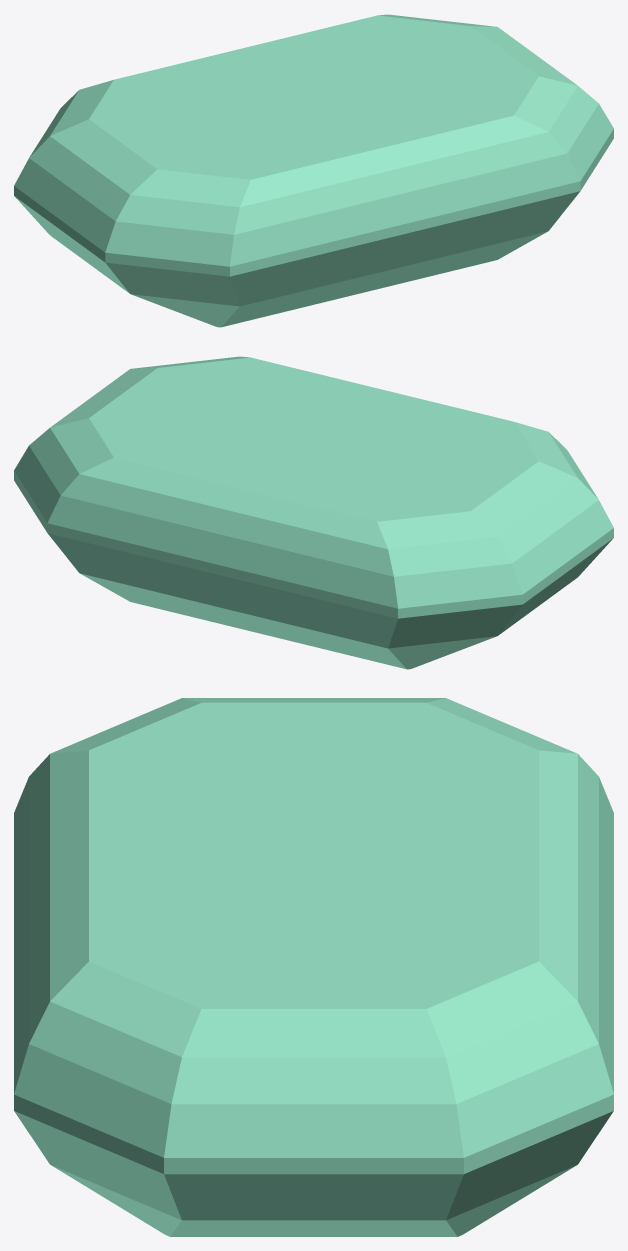
Rendered from Emerald.fbx.
The picture shows the model from 3 angles, top to bottom: view 1: azimuth 30°, elevation 25°; view 2: azimuth 150°, elevation 25°; view 3: azimuth 270°, elevation 25°; orthographic projection. The views are drawn at different scales.
Visible parts, largest first — view 1: Emerald; view 2: Emerald; view 3: Emerald.
Part boxes in pixels (left/top/right/bottom): Emerald: left=14, top=14, right=613, bottom=327; Emerald: left=14, top=356, right=613, bottom=669; Emerald: left=14, top=698, right=613, bottom=1236.
Size of the model in its own units: 1.61 by 0.54 by 1.
